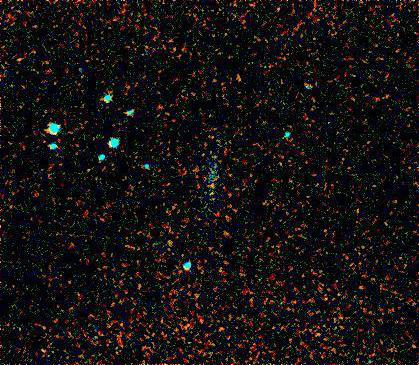star: (156, 229, 186, 259)
